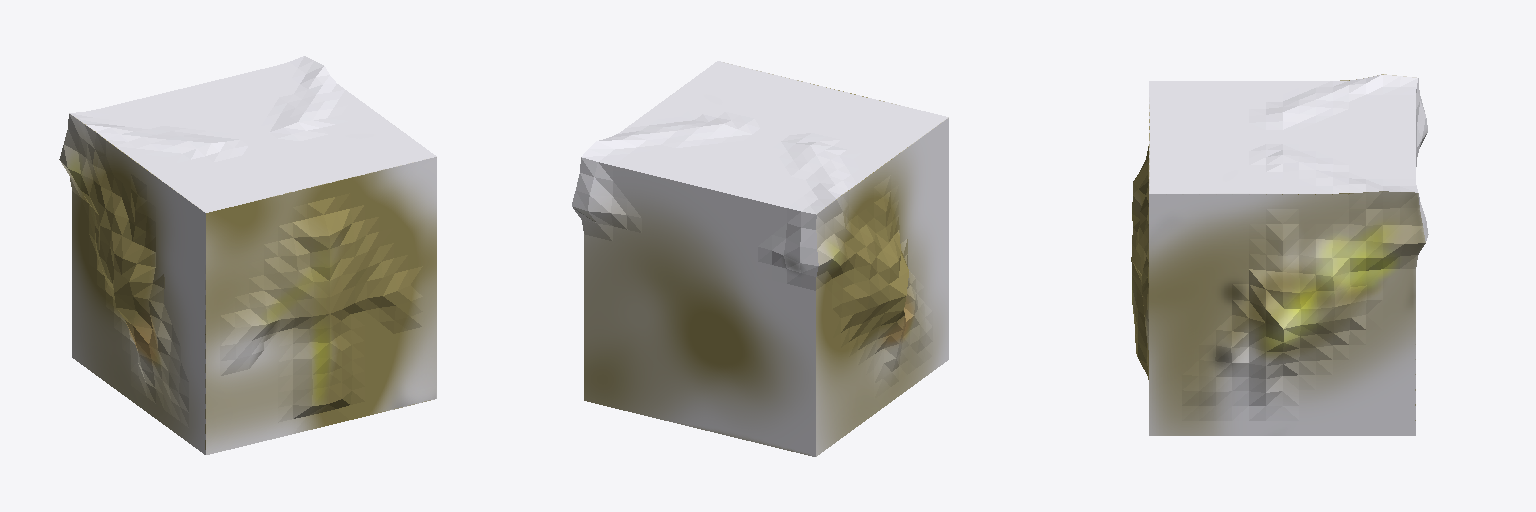
3 renders of one model, left to right at view 1: azimuth 30°, elevation 25°; view 2: azimuth 150°, elevation 25°; view 3: azimuth 270°, elevation 25°, orthographic.
Parts seen in each view (by area): view 1: Cube; view 2: Cube; view 3: Cube.
Part boxes in pixels (left/top/right/bottom): Cube: left=59, top=56, right=436, bottom=454; Cube: left=572, top=61, right=948, bottom=456; Cube: left=1131, top=74, right=1428, bottom=435.
Bounding box in the file's own units: 2.42 × 2.04 × 2.22.
1 materials, 1 textured.